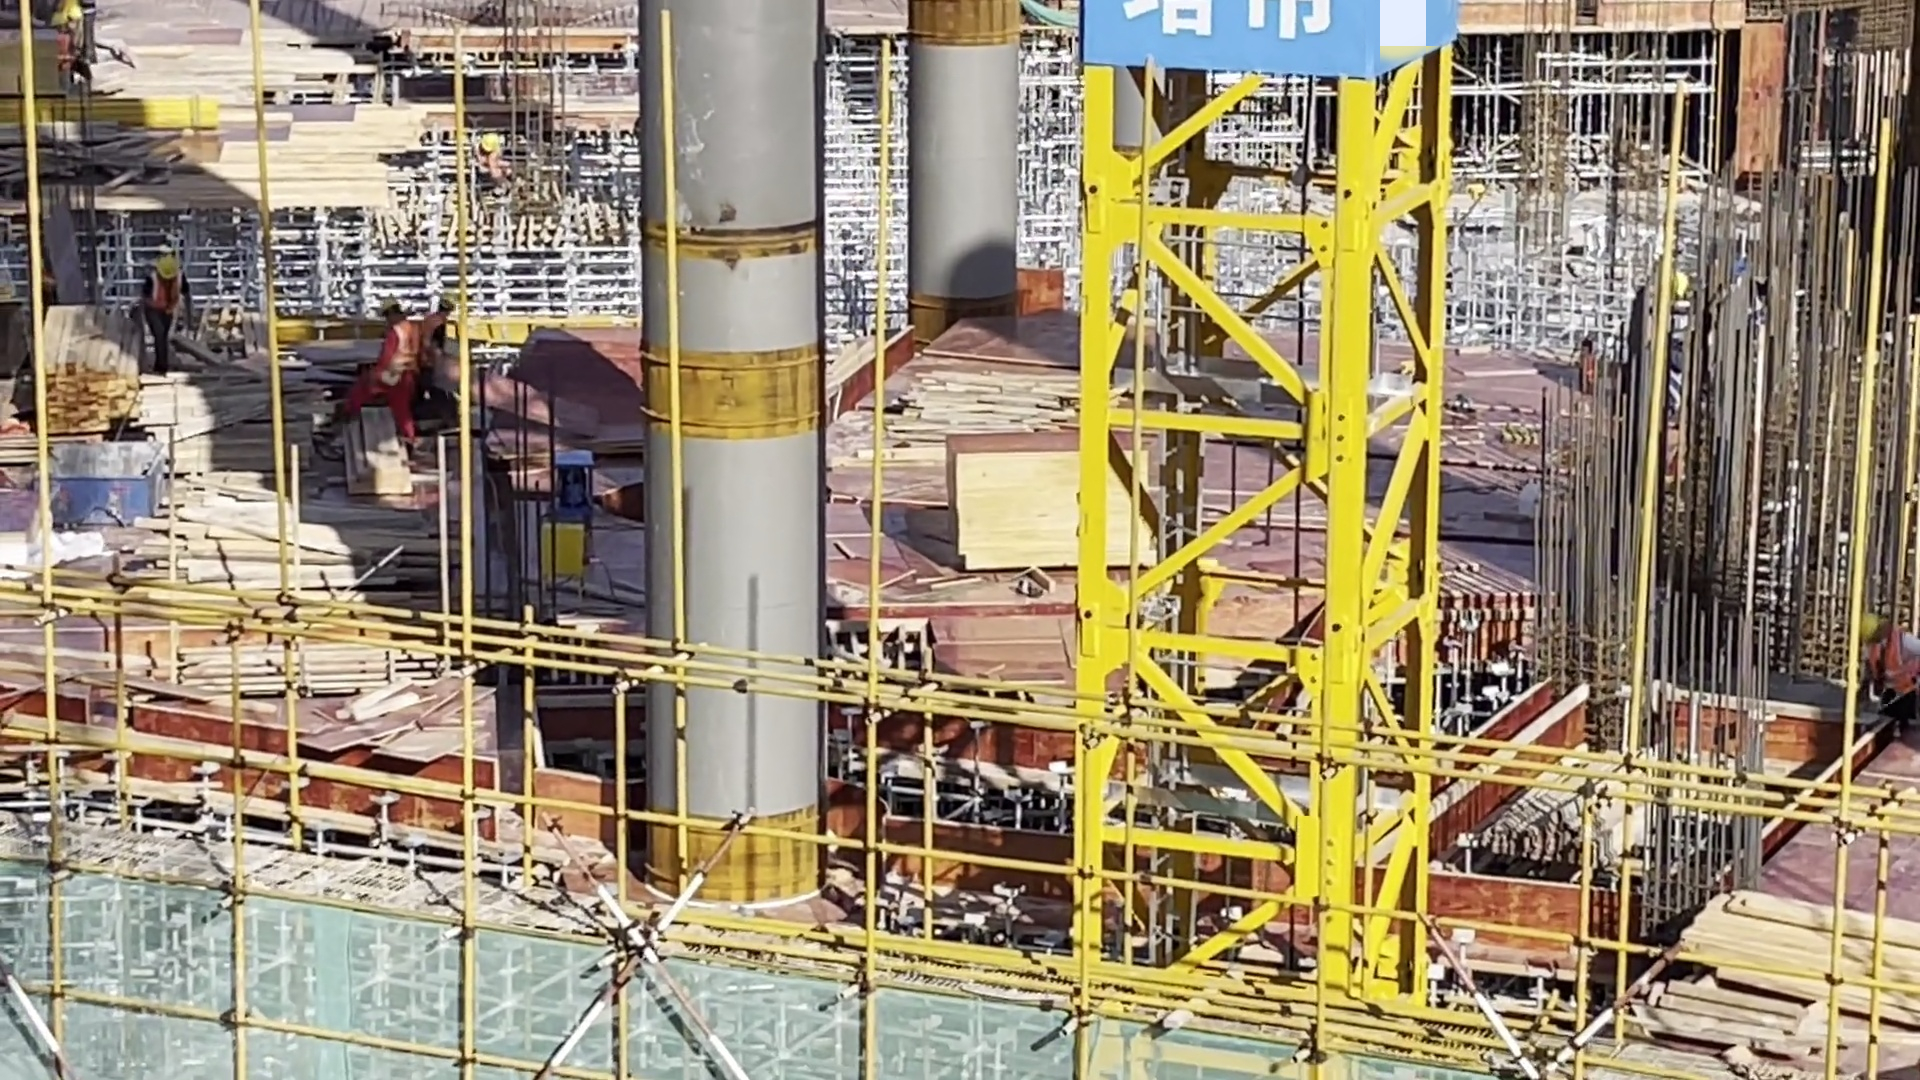board: (943, 436, 1151, 574), (1, 21, 63, 106)
helmet: (1860, 609, 1891, 644), (374, 295, 403, 324), (152, 255, 178, 284)
hopper: (44, 434, 159, 537)
person: (319, 291, 416, 464), (1844, 602, 1920, 750), (137, 238, 194, 387), (413, 287, 470, 402), (50, 2, 111, 94), (465, 127, 516, 199)
slogan: (1093, 1, 1434, 77)
vest: (1861, 633, 1920, 703), (371, 321, 419, 401), (143, 265, 186, 317), (421, 308, 447, 374)
wood: (1655, 874, 1920, 1061), (163, 469, 472, 589), (27, 305, 150, 462), (340, 401, 413, 512)
